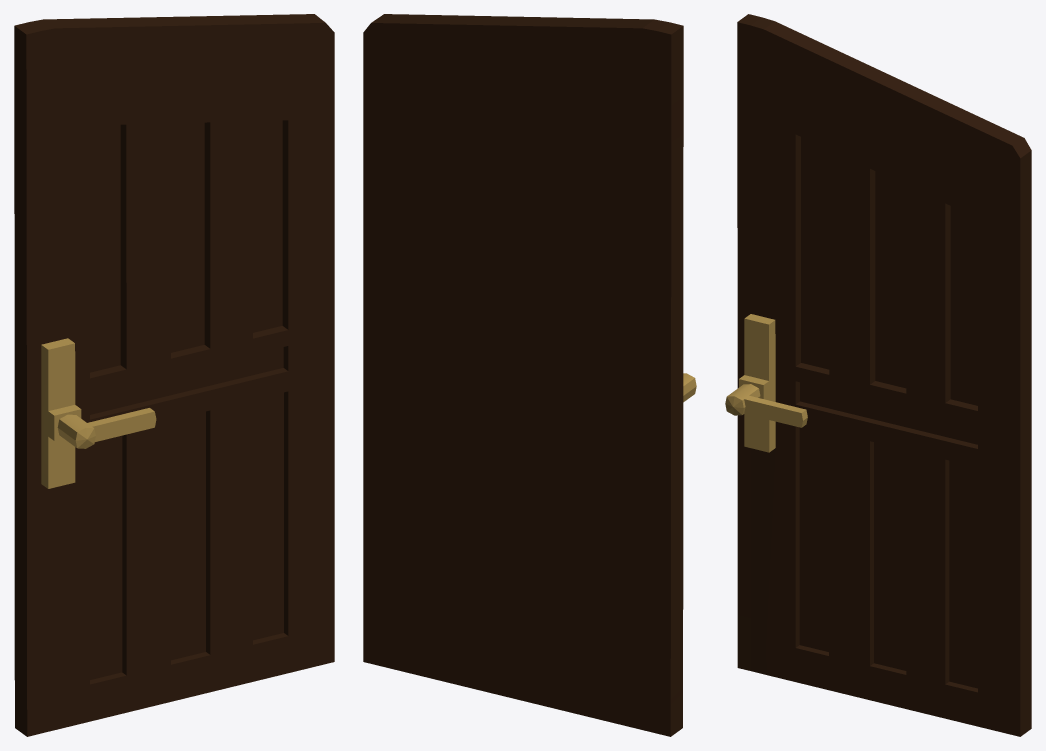
Rendered from MiscDoorRightUV.fbx.
The picture shows the model from 3 angles, left to right: view 1: azimuth 30°, elevation 25°; view 2: azimuth 150°, elevation 25°; view 3: azimuth 330°, elevation 25°; orthographic projection. The views are drawn at different scales.
Visible parts, largest first — view 1: doorR; view 2: doorR; view 3: doorR.
Boxes of the visible parts, box(x1,y1,x2,y2) form: doorR: box(14, 14, 334, 736); doorR: box(363, 14, 696, 736); doorR: box(725, 14, 1031, 736).
Size of the model in its own units: 122 by 267 by 31.02.
